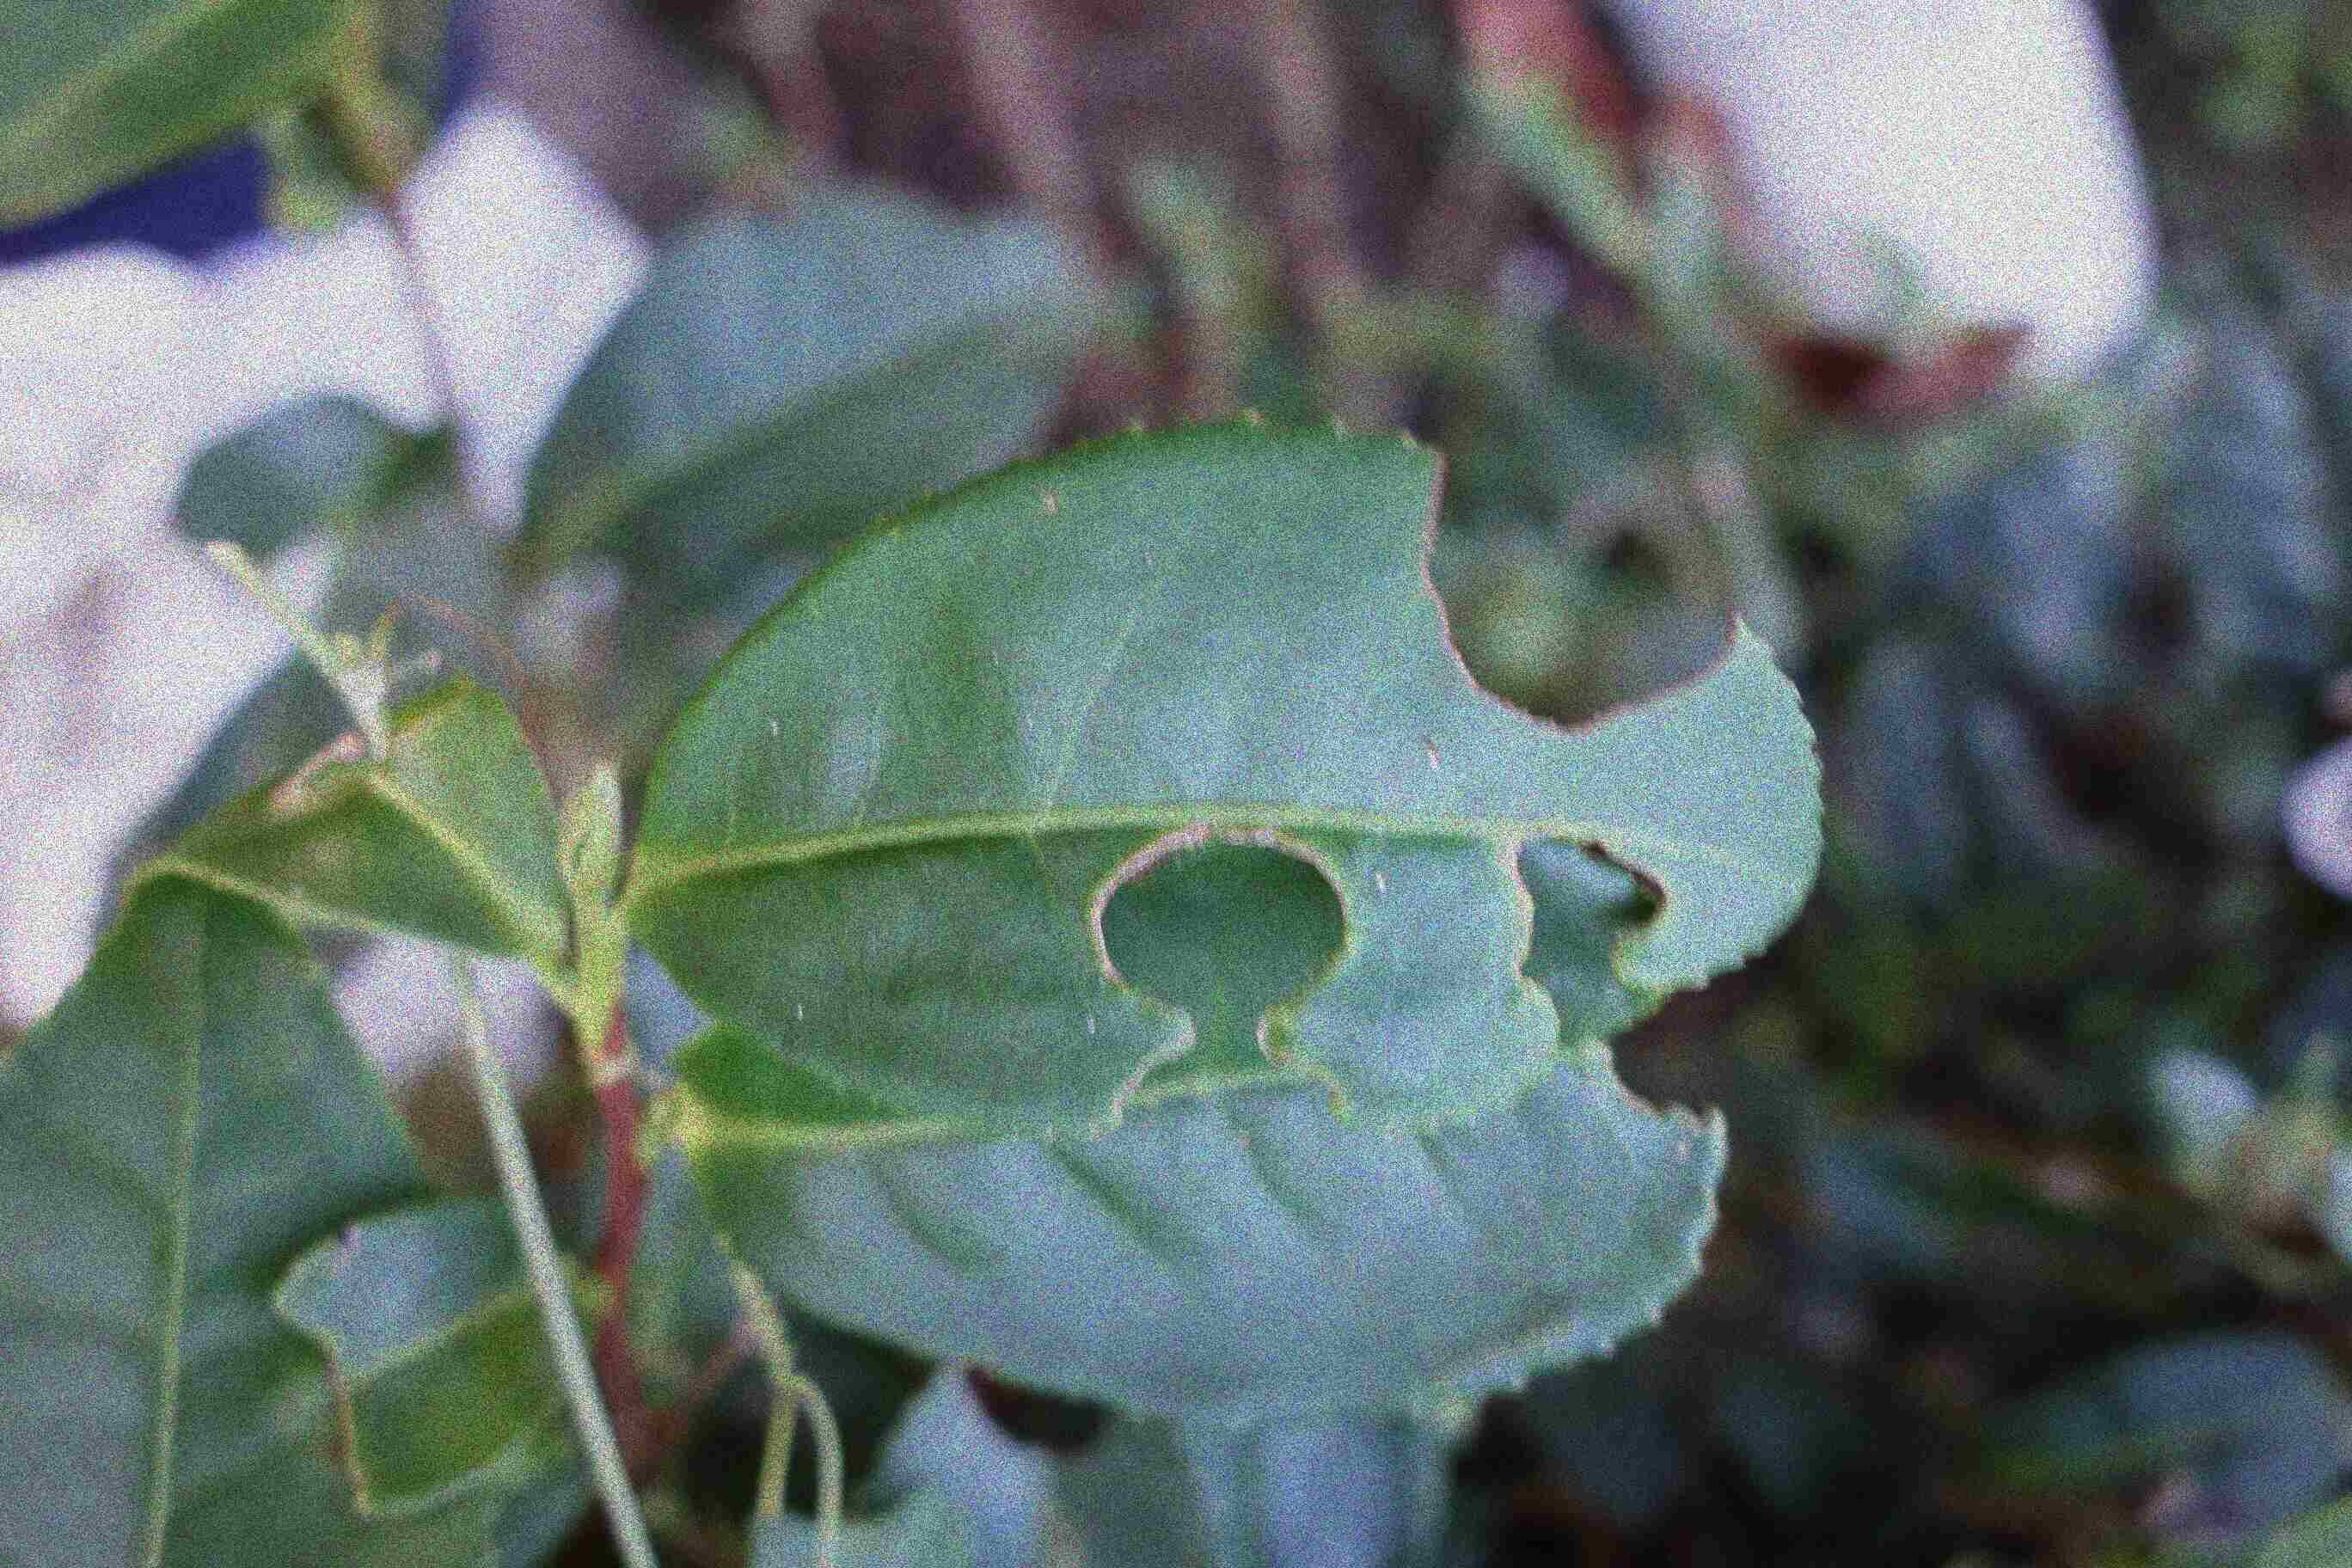chihuo_high: (630, 408, 1823, 1146)
